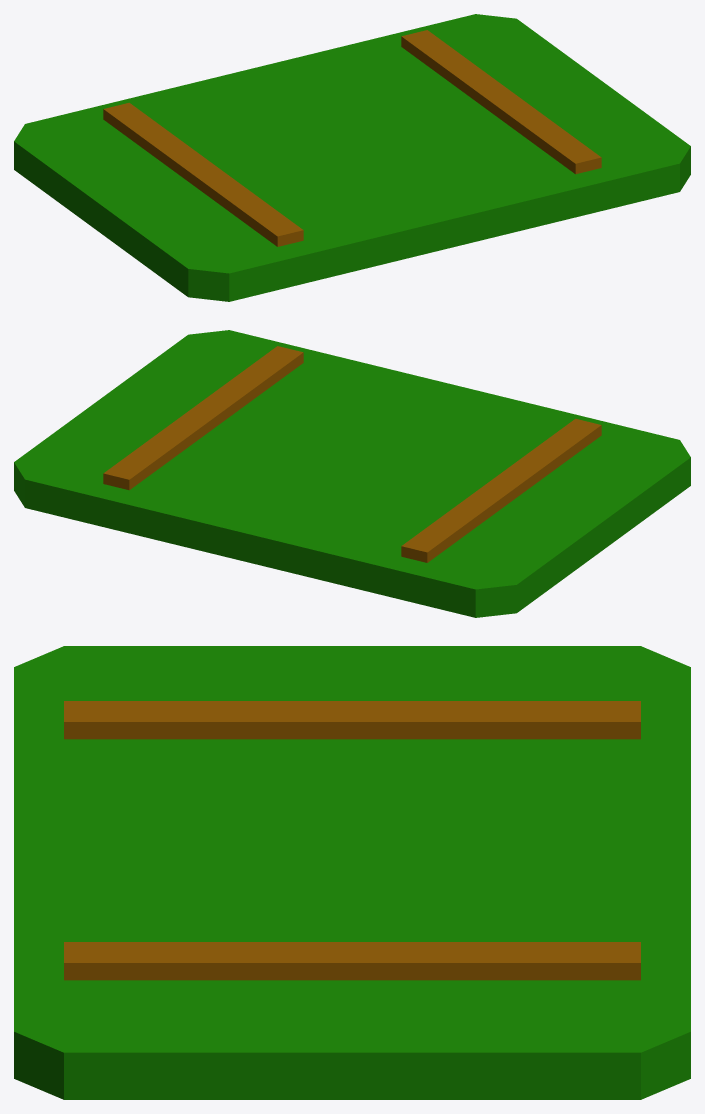
The model's file is SM_LC_Metal_Lid.fbx.
3 renders of one model, top to bottom at view 1: azimuth 30°, elevation 25°; view 2: azimuth 150°, elevation 25°; view 3: azimuth 270°, elevation 25°, orthographic. The views are drawn at different scales.
Visible parts, largest first — view 1: SM_LC_Metal_Lid; view 2: SM_LC_Metal_Lid; view 3: SM_LC_Metal_Lid.
Part boxes in pixels (box(x1,y1,x2,y2)): SM_LC_Metal_Lid: box(14, 14, 690, 301); SM_LC_Metal_Lid: box(14, 330, 690, 617); SM_LC_Metal_Lid: box(14, 646, 690, 1099).
Size of what is drawn, in the model's own units: 135 by 95 by 10.
